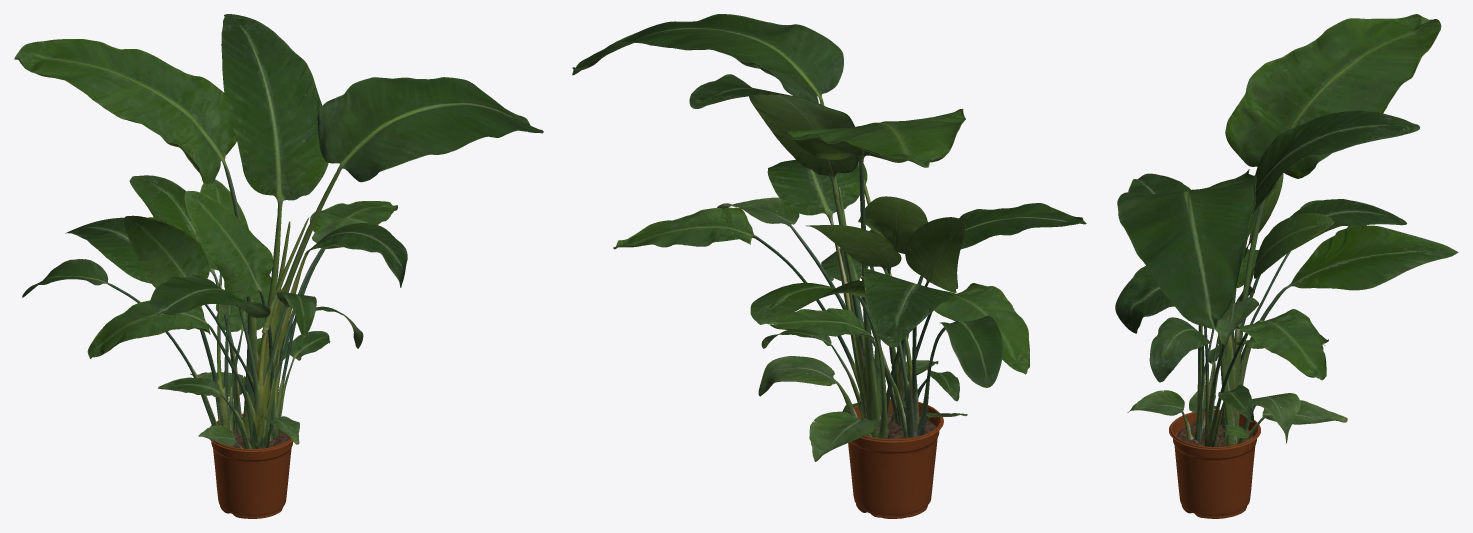
The model's file is strelitzia.glb.
3 renders of one model, left to right at view 1: azimuth 30°, elevation 25°; view 2: azimuth 150°, elevation 25°; view 3: azimuth 270°, elevation 25°, orthographic. The views are drawn at different scales.
Parts seen in each view (by area): view 1: Object_4; view 2: Object_4; view 3: Object_4.
Boxes of the visible parts, x1=… form: Object_4: x1=14, y1=14, x2=543, y2=518; Object_4: x1=572, y1=14, x2=1086, y2=518; Object_4: x1=1115, y1=14, x2=1458, y2=518.
Size of the model in its own units: 1.85 by 1.64 by 1.2.
Materials: 1 (1 with a texture image).
